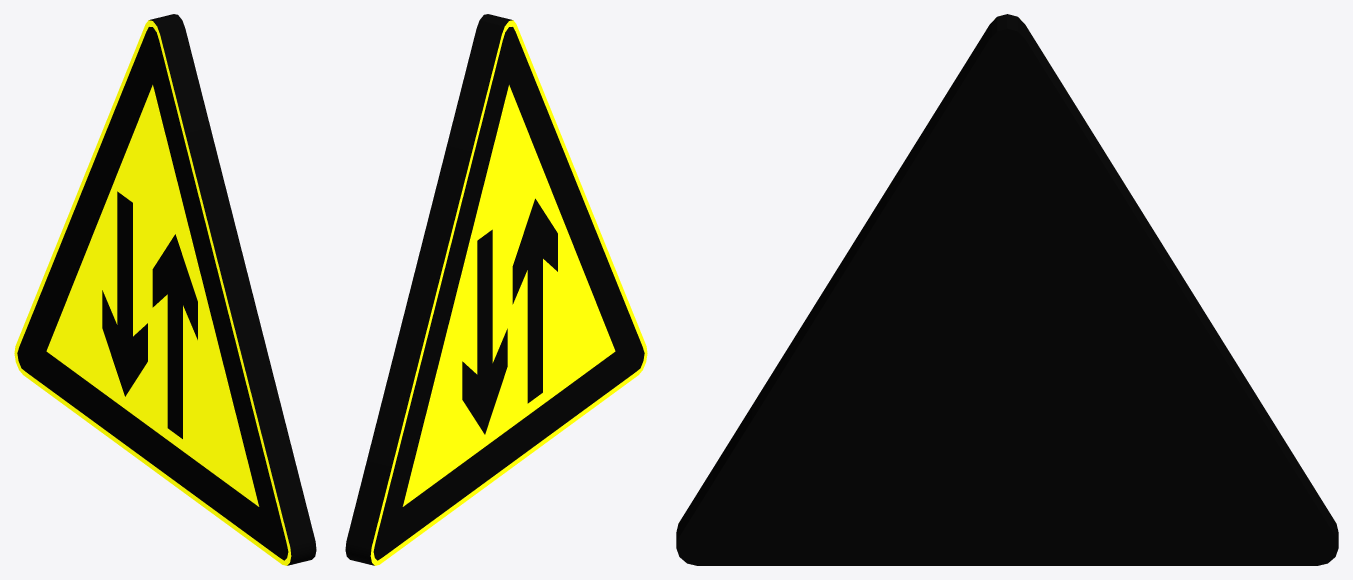
The model's file is Bilateral_Traffic.glb.
3 renders of one model, left to right at view 1: azimuth 30°, elevation 25°; view 2: azimuth 150°, elevation 25°; view 3: azimuth 270°, elevation 25°, orthographic. The views are drawn at different scales.
Visible parts, largest first — view 1: Bilateral_Traffic; view 2: Bilateral_Traffic; view 3: Bilateral_Traffic.
Boxes of the visible parts, x1=… form: Bilateral_Traffic: x1=14, y1=14, x2=316, y2=565; Bilateral_Traffic: x1=345, y1=14, x2=647, y2=565; Bilateral_Traffic: x1=676, y1=14, x2=1338, y2=565.
Bounding box in the file's own units: 0.0643 × 1.02 × 1.14.
